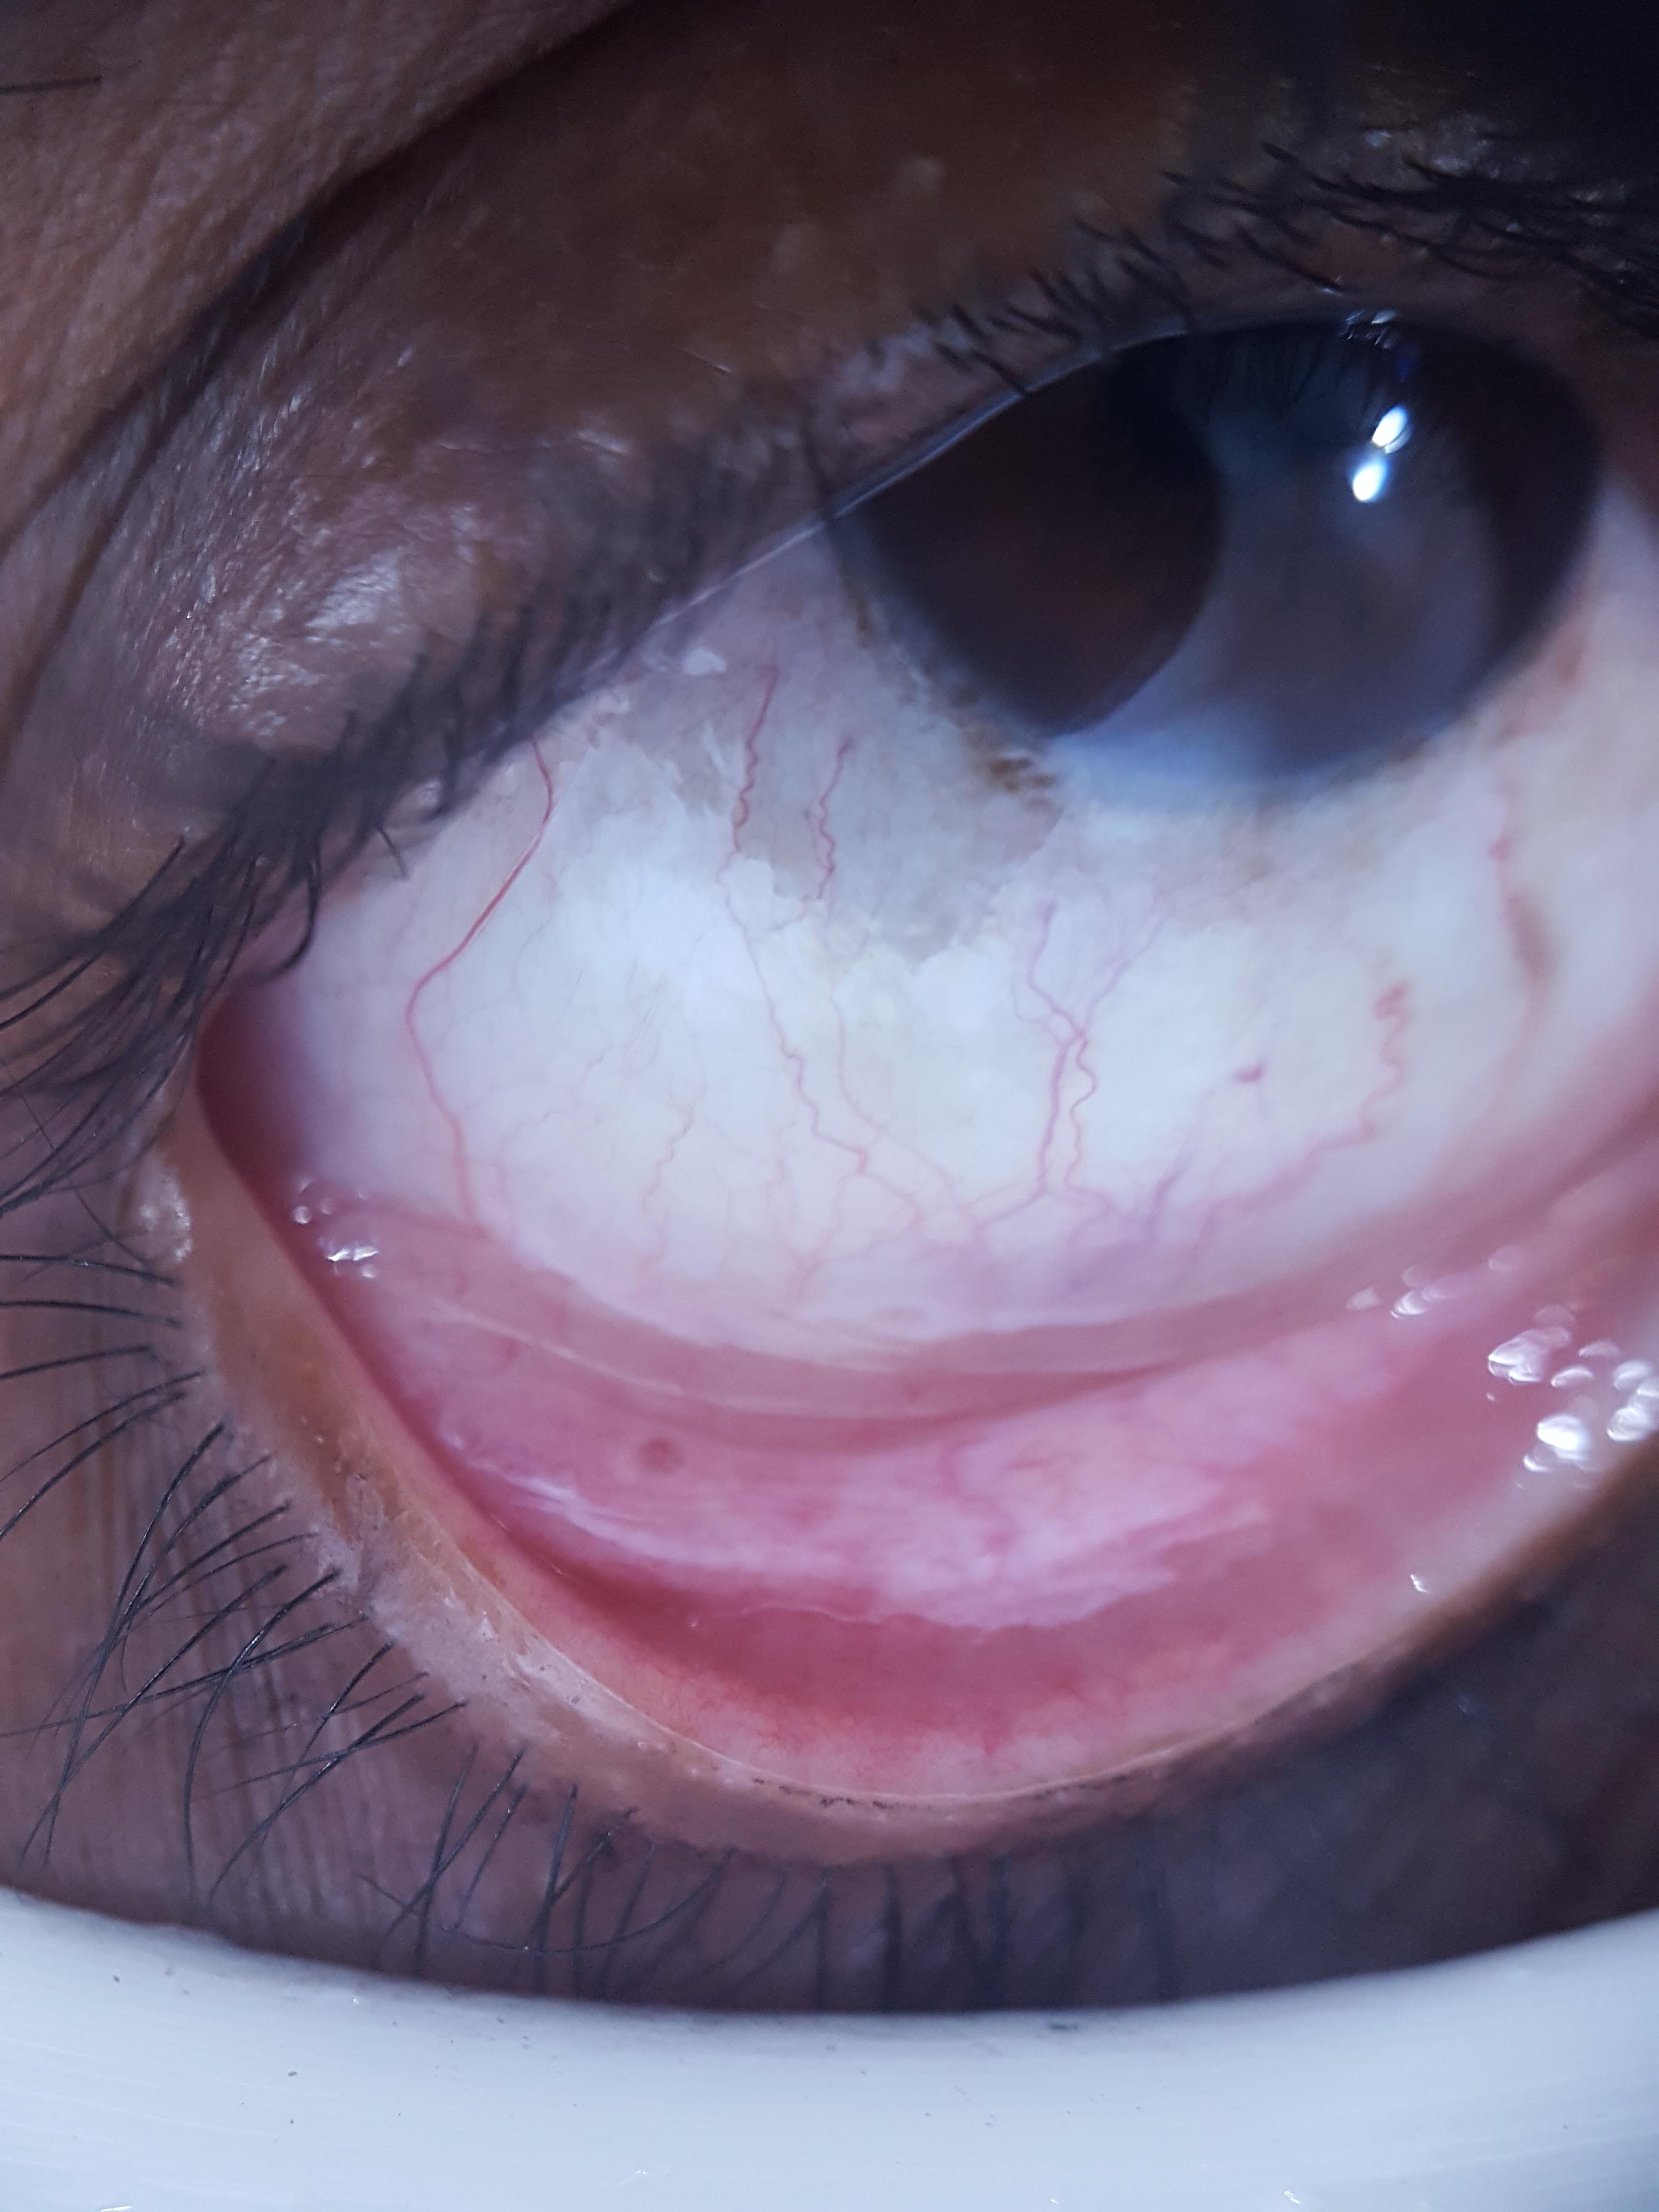forniceal: (295, 1089, 1659, 1632)
forniceal_palpebral: (251, 1080, 1659, 1745)
palpebral: (256, 1172, 1659, 1738)
